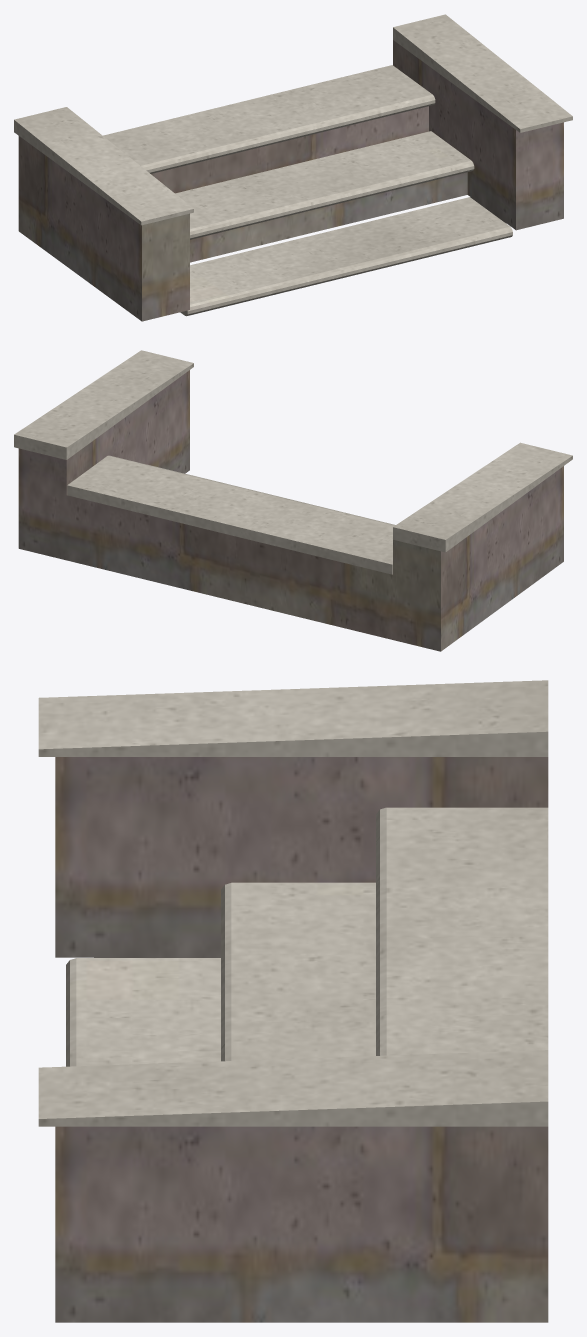
File: stone_steps.glb
3 renders of one model, top to bottom at view 1: azimuth 30°, elevation 25°; view 2: azimuth 150°, elevation 25°; view 3: azimuth 270°, elevation 25°, orthographic. The views are drawn at different scales.
Visible parts, largest first — view 1: stone_steps_cap, stone_steps_stone; view 2: stone_steps_stone, stone_steps_cap; view 3: stone_steps_stone, stone_steps_cap.
Boxes of the visible parts, x1,y1,x2,y2 form: stone_steps_cap: (14,14,572,316); stone_steps_stone: (18,40,563,321); stone_steps_stone: (18,370,563,651); stone_steps_cap: (14,350,572,574); stone_steps_stone: (55,757,548,1322); stone_steps_cap: (38,680,548,1126).
Bounding box in the file's own units: 1.8 × 0.49 × 0.92.
2 materials, 2 textured.
